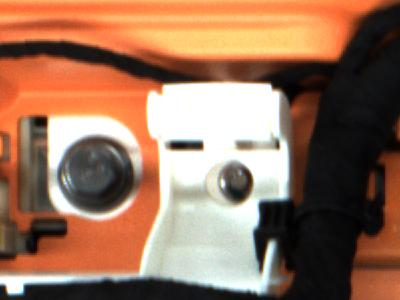nut_b: (53, 135, 138, 211)
